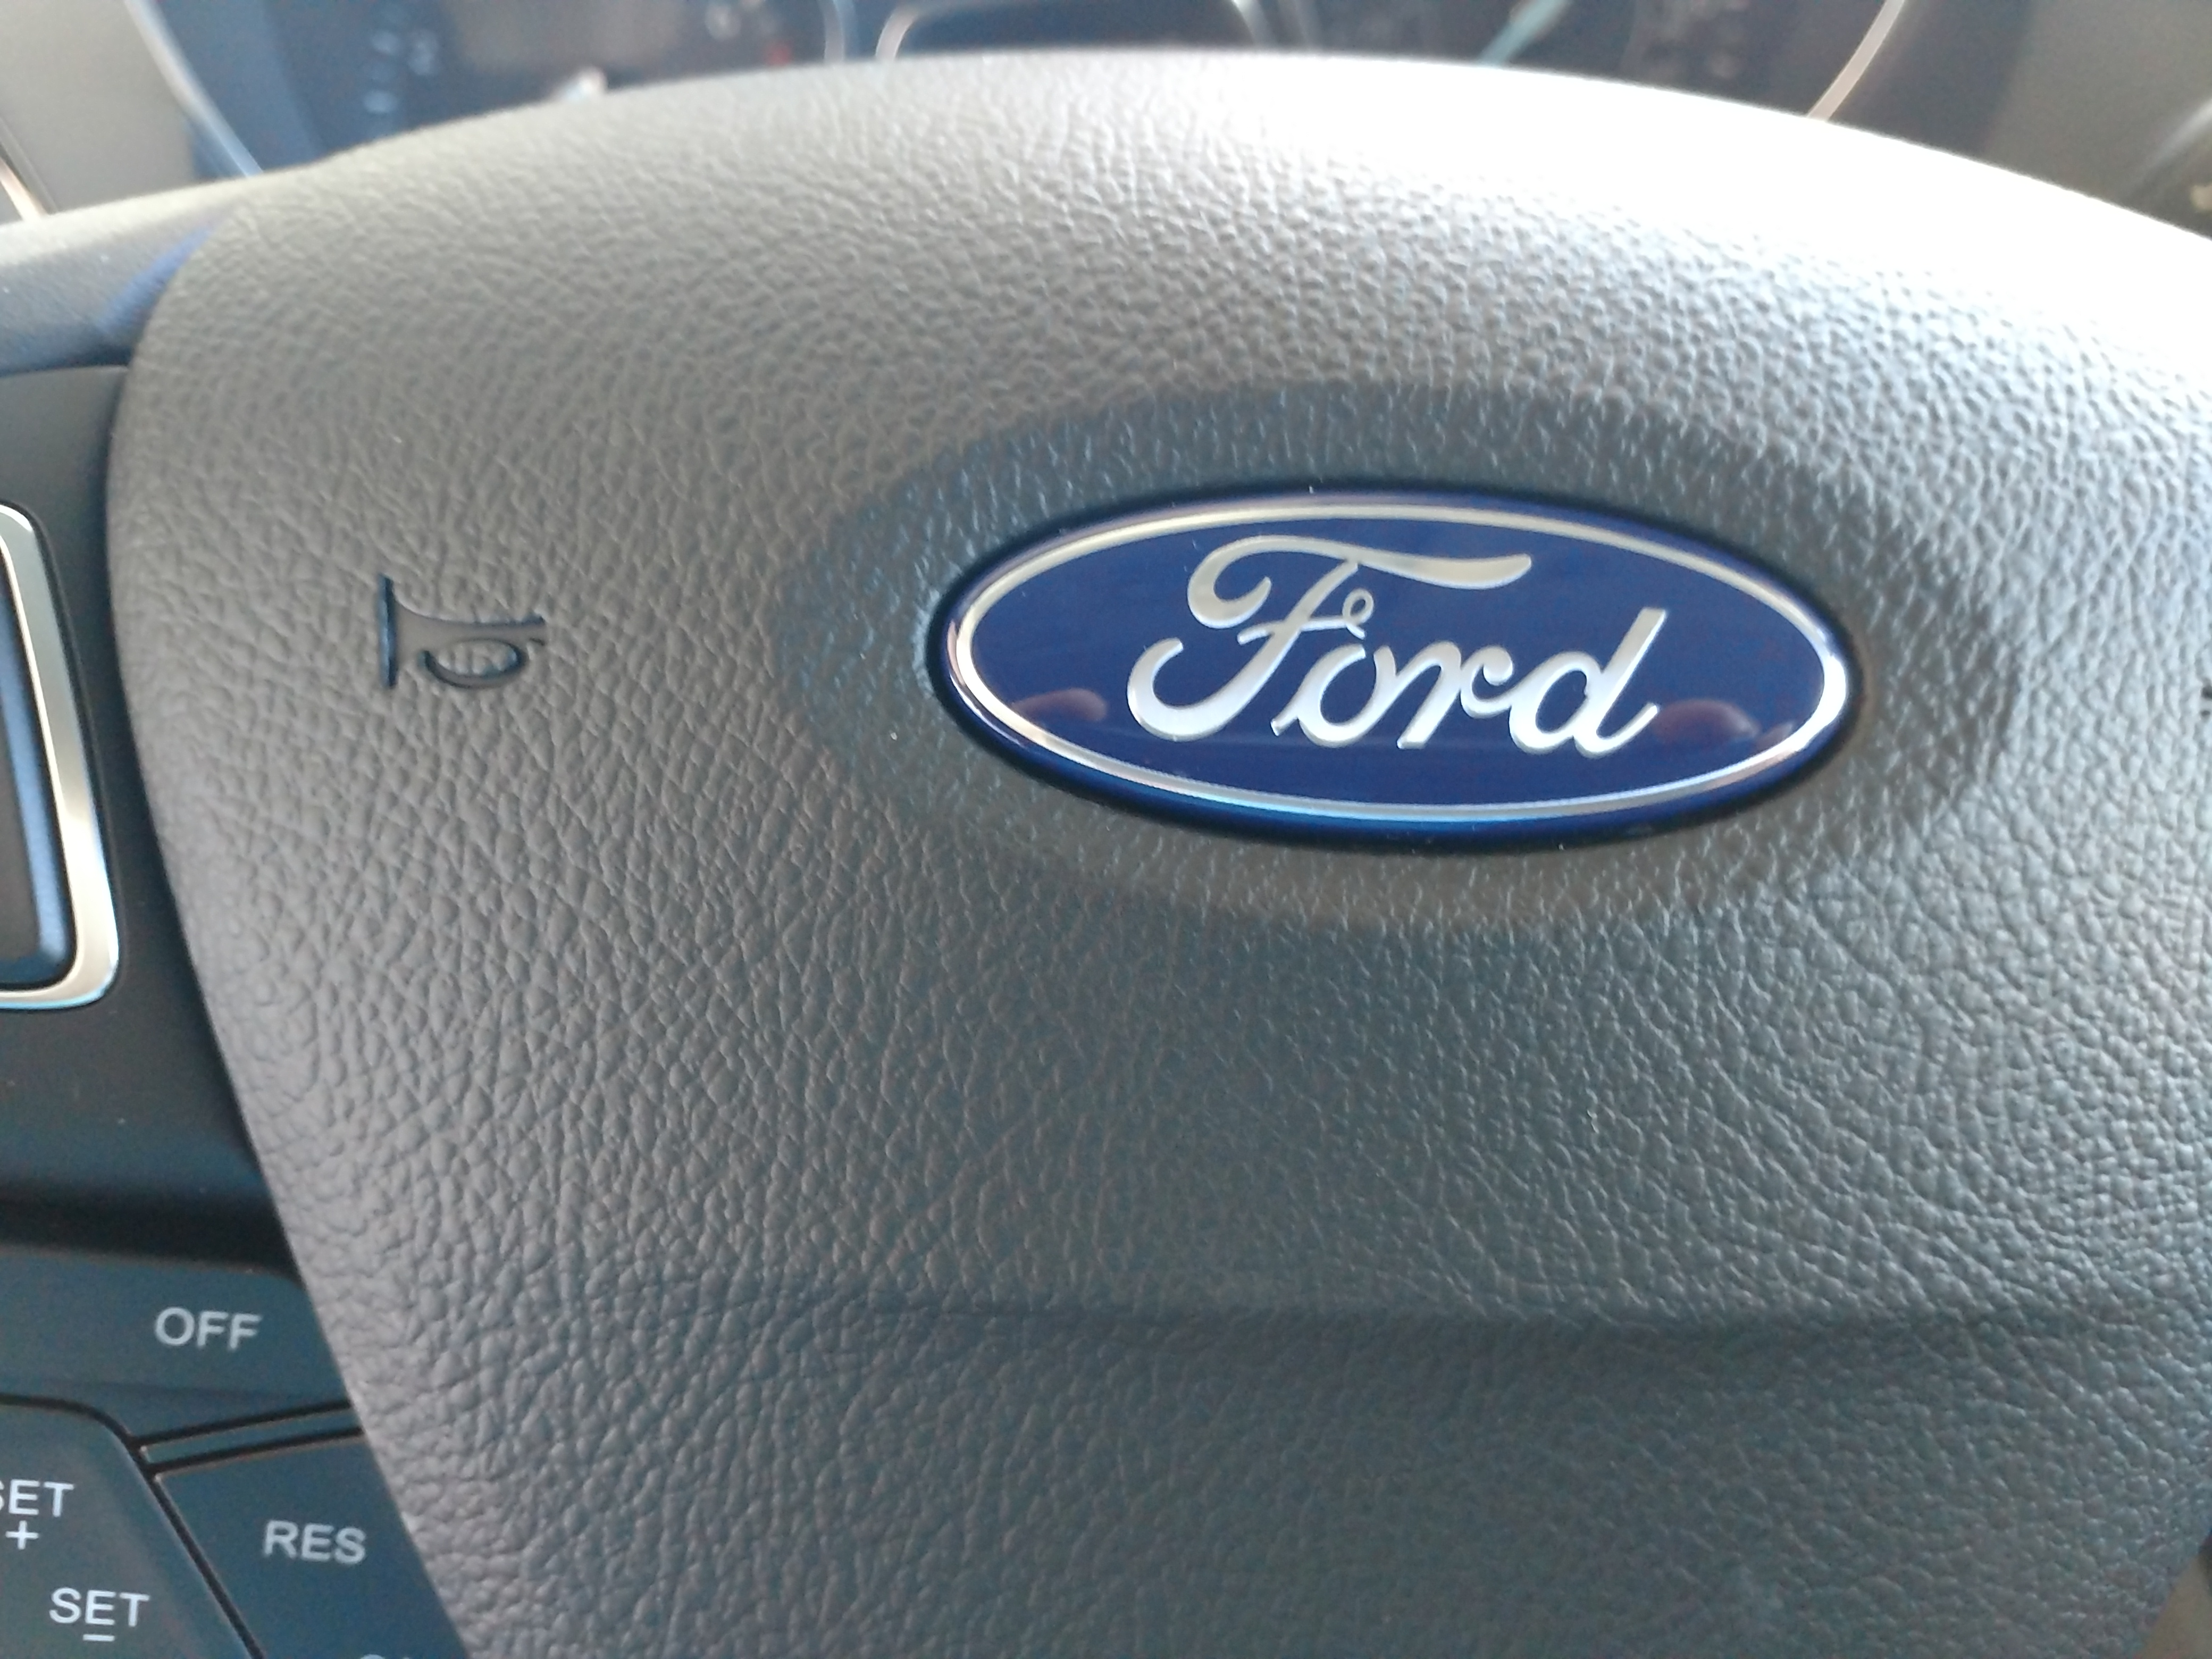Ford: (921, 448, 1928, 877)
